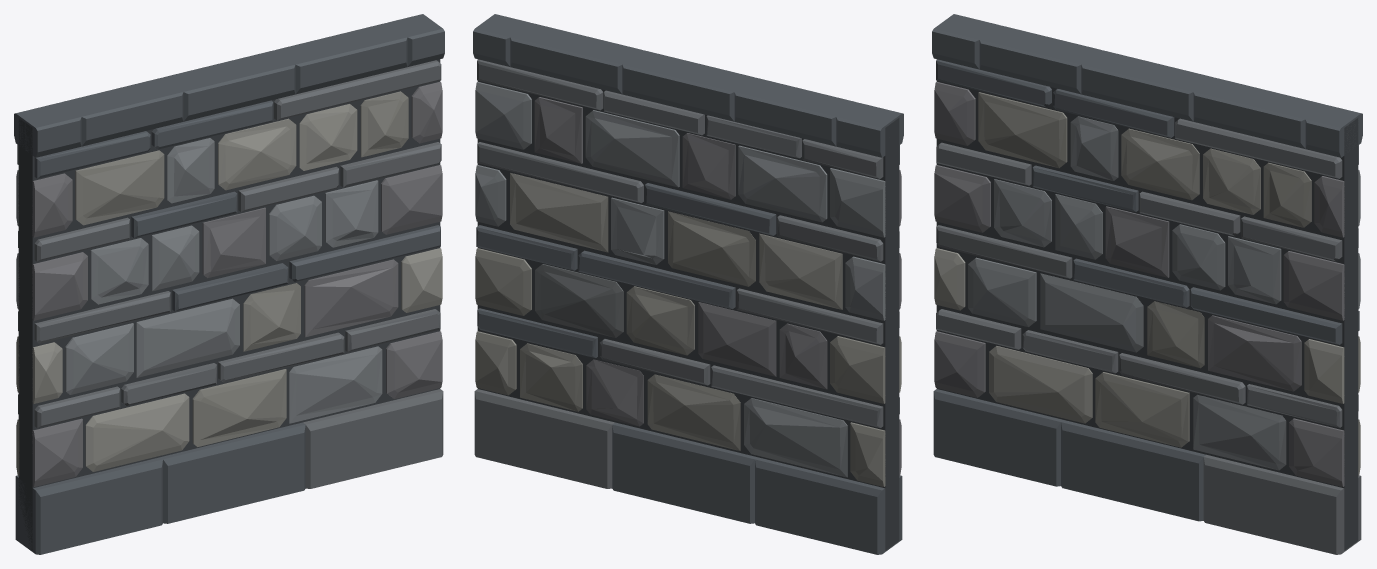
File: SM_LPD_Struct_WallCoursed_01.fbx
The picture shows the model from 3 angles, left to right: view 1: azimuth 30°, elevation 25°; view 2: azimuth 150°, elevation 25°; view 3: azimuth 330°, elevation 25°; orthographic projection.
Parts seen in each view (by area): view 1: SM_LPD_Struct_WallCoursed_01; view 2: SM_LPD_Struct_WallCoursed_01; view 3: SM_LPD_Struct_WallCoursed_01.
Part boxes in pixels (<box>): SM_LPD_Struct_WallCoursed_01: <box>14,14,444,554</box>; SM_LPD_Struct_WallCoursed_01: <box>473,14,903,554</box>; SM_LPD_Struct_WallCoursed_01: <box>932,14,1362,554</box>.
Size of the model in its own units: 4 by 4 by 0.4.
